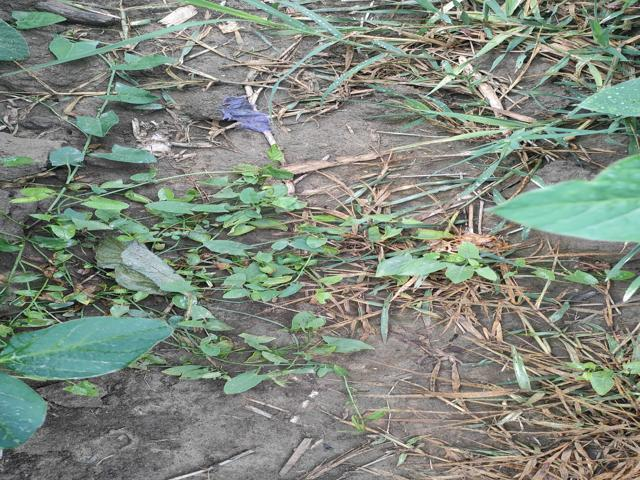bad weed: (0, 146, 498, 399), (276, 0, 640, 143)
